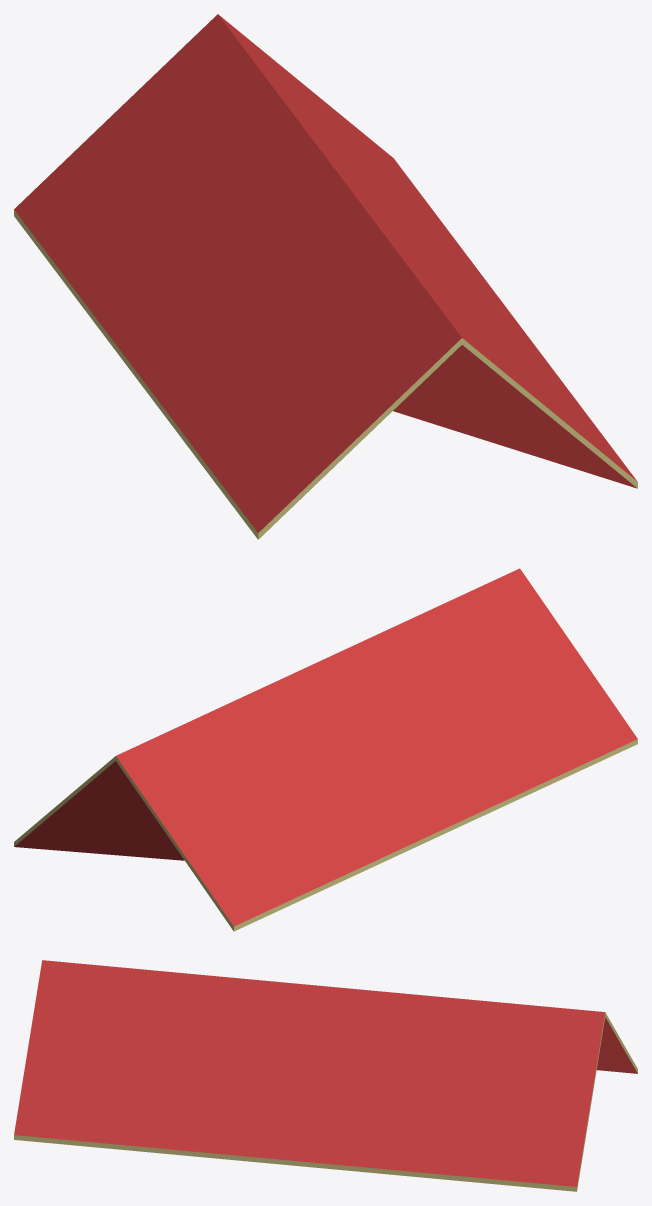
The picture shows the model from 3 angles, top to bottom: view 1: azimuth 30°, elevation 25°; view 2: azimuth 150°, elevation 25°; view 3: azimuth 270°, elevation 25°; orthographic projection. The views are drawn at different scales.
Size of the model in its own units: 7.54 by 11.7 by 2.59.
